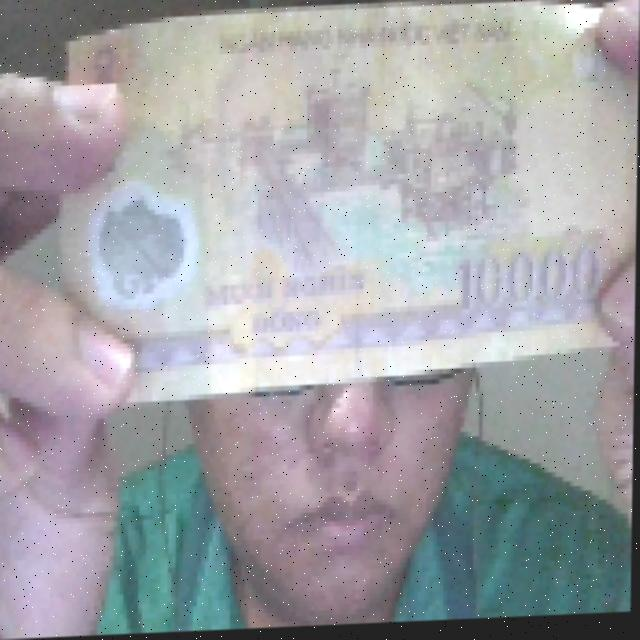10 000 VND: (32, 0, 640, 407)
